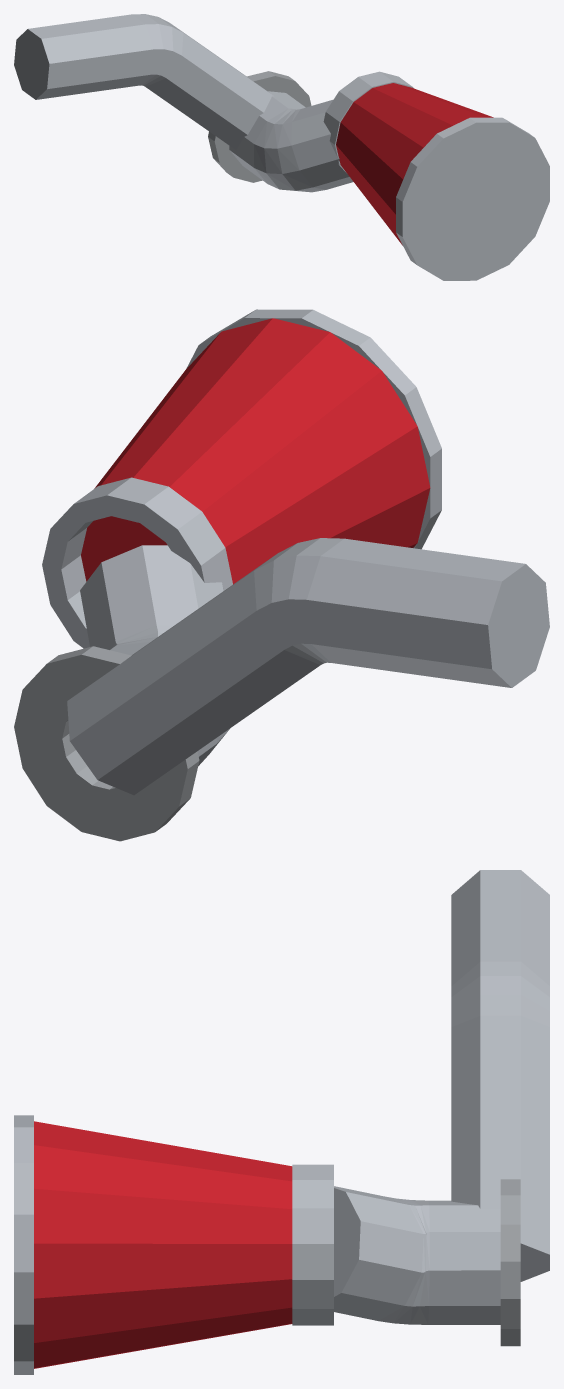
Rendered from apex_v8.glb.
The picture shows the model from 3 angles, top to bottom: view 1: azimuth 30°, elevation 25°; view 2: azimuth 150°, elevation 25°; view 3: azimuth 270°, elevation 25°; orthographic projection. The views are drawn at different scales.
Visible parts, largest first — view 1: model; view 2: model; view 3: model.
Boxes of the visible parts, x1,y1,x2,y2 form: model: (14,14,549,280); model: (14,309,549,841); model: (14,870,549,1374).
Bounding box in the file's own units: 0.3689 × 0.1995 × 0.3216.
Materials: 2 (1 with a texture image).
